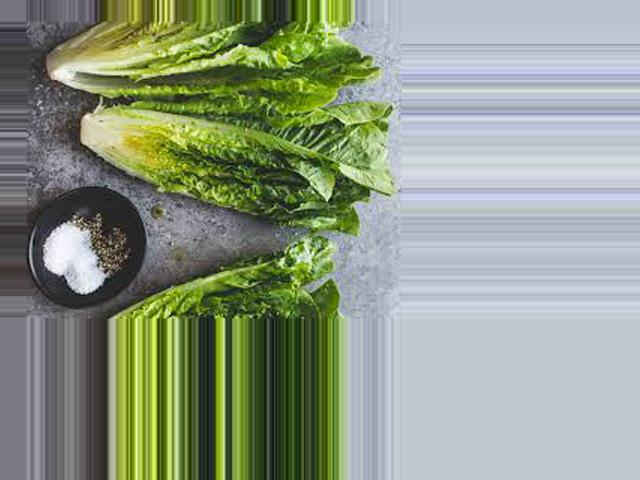lettuce: (25, 22, 352, 107)
